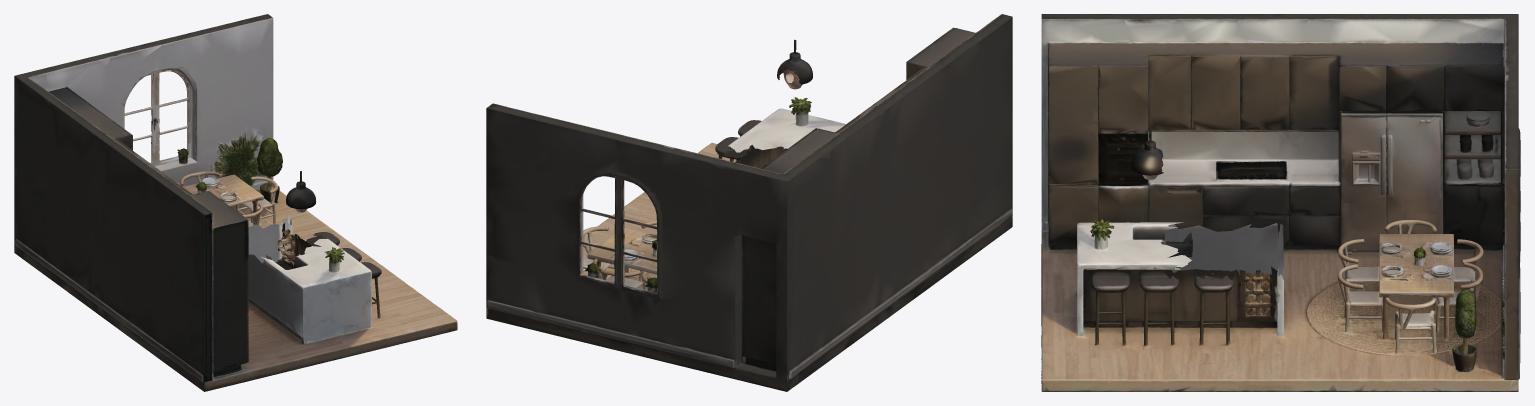
Rendered from cuisine.glb.
The picture shows the model from 3 angles, left to right: view 1: azimuth 30°, elevation 25°; view 2: azimuth 150°, elevation 25°; view 3: azimuth 270°, elevation 25°; orthographic projection. The views are drawn at different scales.
Parts seen in each view (by area): view 1: tripo_node_4436d3ae-9c42-49d9-b58a-9700bac1b9ce; view 2: tripo_node_4436d3ae-9c42-49d9-b58a-9700bac1b9ce; view 3: tripo_node_4436d3ae-9c42-49d9-b58a-9700bac1b9ce.
Boxes of the visible parts, x1,y1,x2,y2 form: tripo_node_4436d3ae-9c42-49d9-b58a-9700bac1b9ce: (14,14,457,391); tripo_node_4436d3ae-9c42-49d9-b58a-9700bac1b9ce: (486,14,1012,391); tripo_node_4436d3ae-9c42-49d9-b58a-9700bac1b9ce: (1041,14,1520,391).
Bounding box in the file's own units: 0.7568 × 0.502 × 0.978.
Materials: 1 (1 with a texture image).
